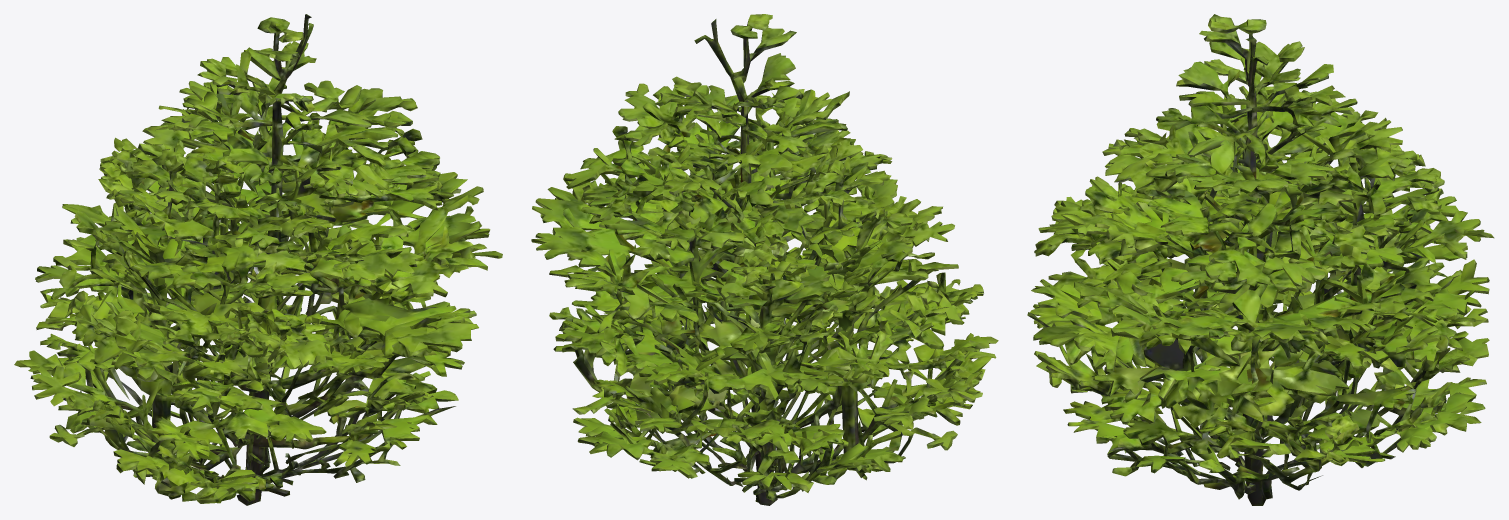
The model's file is spruce-branch-v6.glb.
3 renders of one model, left to right at view 1: azimuth 30°, elevation 25°; view 2: azimuth 150°, elevation 25°; view 3: azimuth 270°, elevation 25°, orthographic. The views are drawn at different scales.
Parts seen in each view (by area): view 1: geometry_0; view 2: geometry_0; view 3: geometry_0.
Boxes of the visible parts, <box> form: geometry_0: <box>14,14,502,505</box>; geometry_0: <box>531,14,998,505</box>; geometry_0: <box>1027,14,1494,505</box>.
Size of the model in its own units: 2.86 by 3 by 2.58.
1 material, 1 textured.
